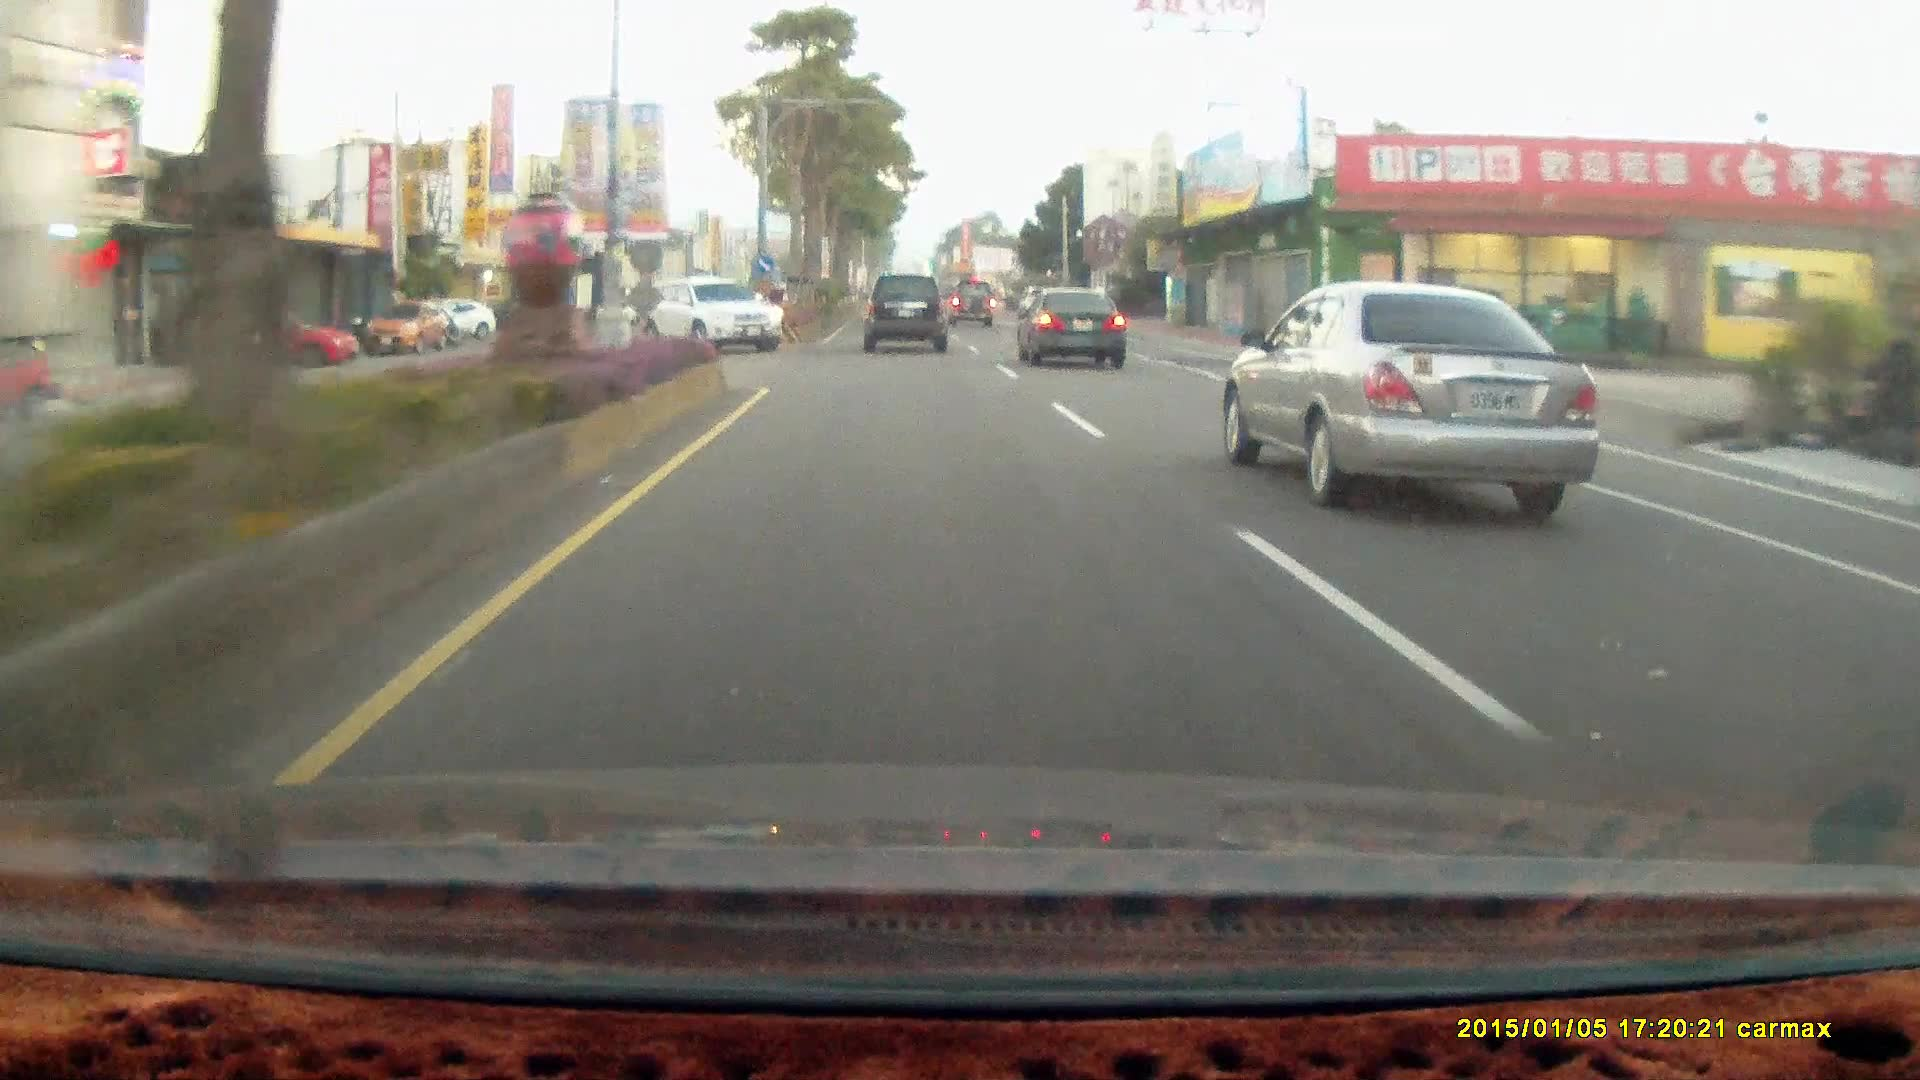vehicle: (1211, 284, 1611, 531), (636, 276, 783, 355), (655, 278, 789, 356), (190, 311, 361, 371), (1014, 285, 1129, 372), (195, 306, 357, 367), (1013, 284, 1125, 367), (865, 277, 953, 357), (356, 301, 468, 360), (862, 273, 945, 351), (1, 331, 57, 423), (359, 301, 448, 353), (413, 301, 497, 344), (945, 280, 997, 331)
